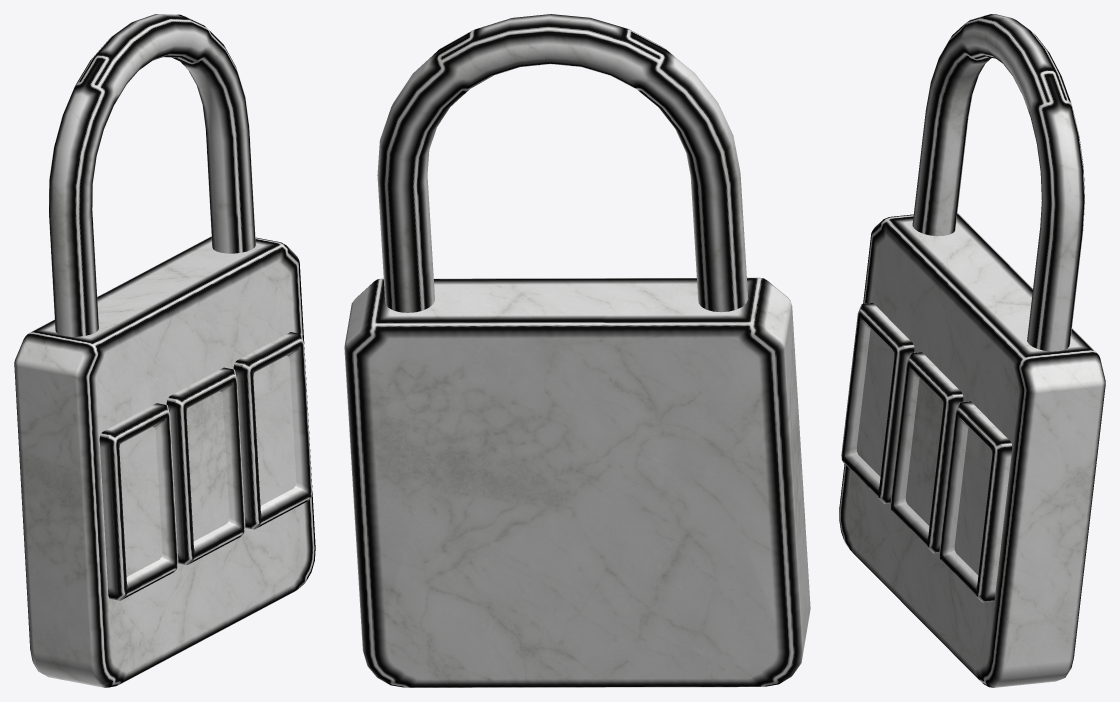
File: PadLock.glb
3 renders of one model, left to right at view 1: azimuth 30°, elevation 25°; view 2: azimuth 150°, elevation 25°; view 3: azimuth 270°, elevation 25°, orthographic. The views are drawn at different scales.
Visible parts, largest first — view 1: Node1, Node3, Node2; view 2: Node1, Node2; view 3: Node1, Node3, Node2.
Boxes of the visible parts, box(x1,y1,x2,y2) form: Node1: box(14, 236, 315, 687); Node3: box(99, 332, 312, 600); Node2: box(49, 14, 255, 336); Node1: box(344, 277, 810, 687); Node2: box(377, 14, 748, 312); Node1: box(839, 212, 1105, 687); Node3: box(841, 303, 1012, 602); Node2: box(912, 14, 1084, 351).
Bounding box in the file's own units: 33.82 × 58.68 × 23.79.
1 material, 1 textured.
